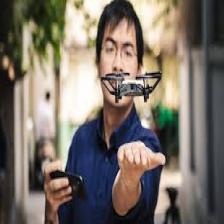drone: (102, 71, 162, 101)
